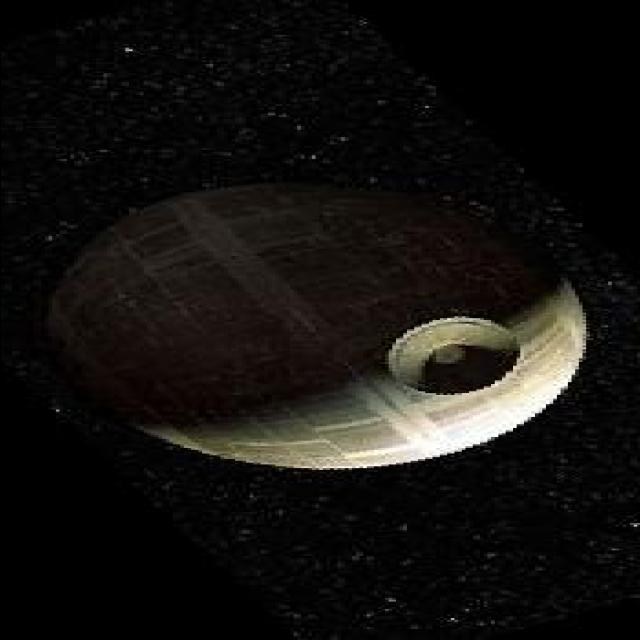Death Star: (36, 177, 596, 473)
